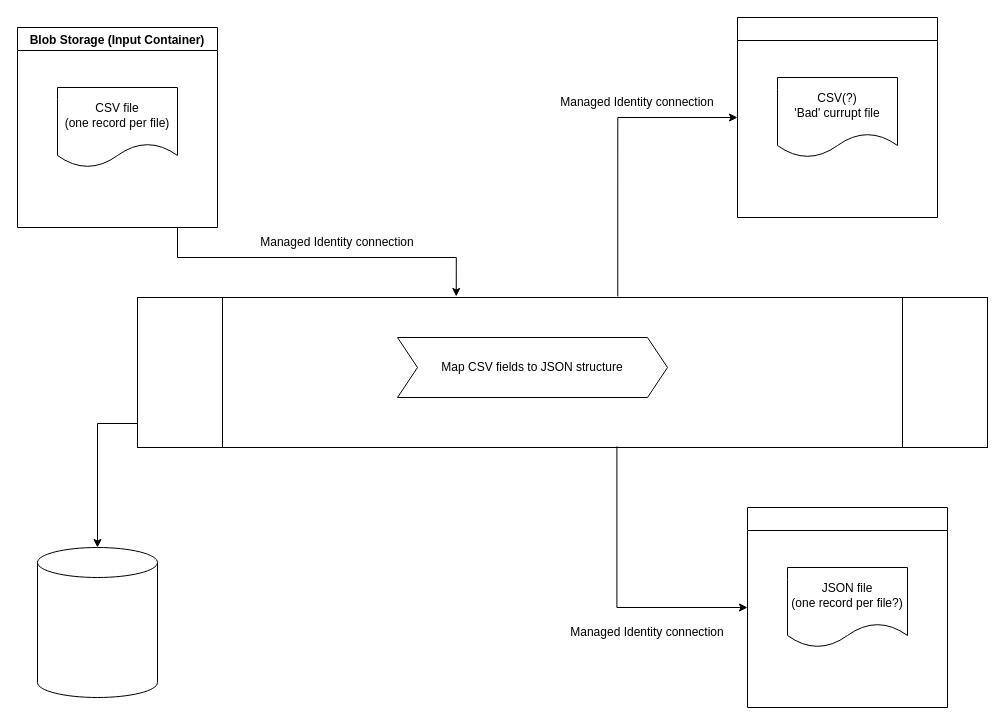
The diagram is 1005 pixels wide and 725 high, and some of its shapes have lost their labels. Here are the shapes that lost their labels. From the top down, the box of each, then its label:
(736, 16, 938, 218): Blob Storage (Errors Container)
(36, 546, 158, 698): Logging
(746, 506, 948, 708): Blob Storage (Output Container)
